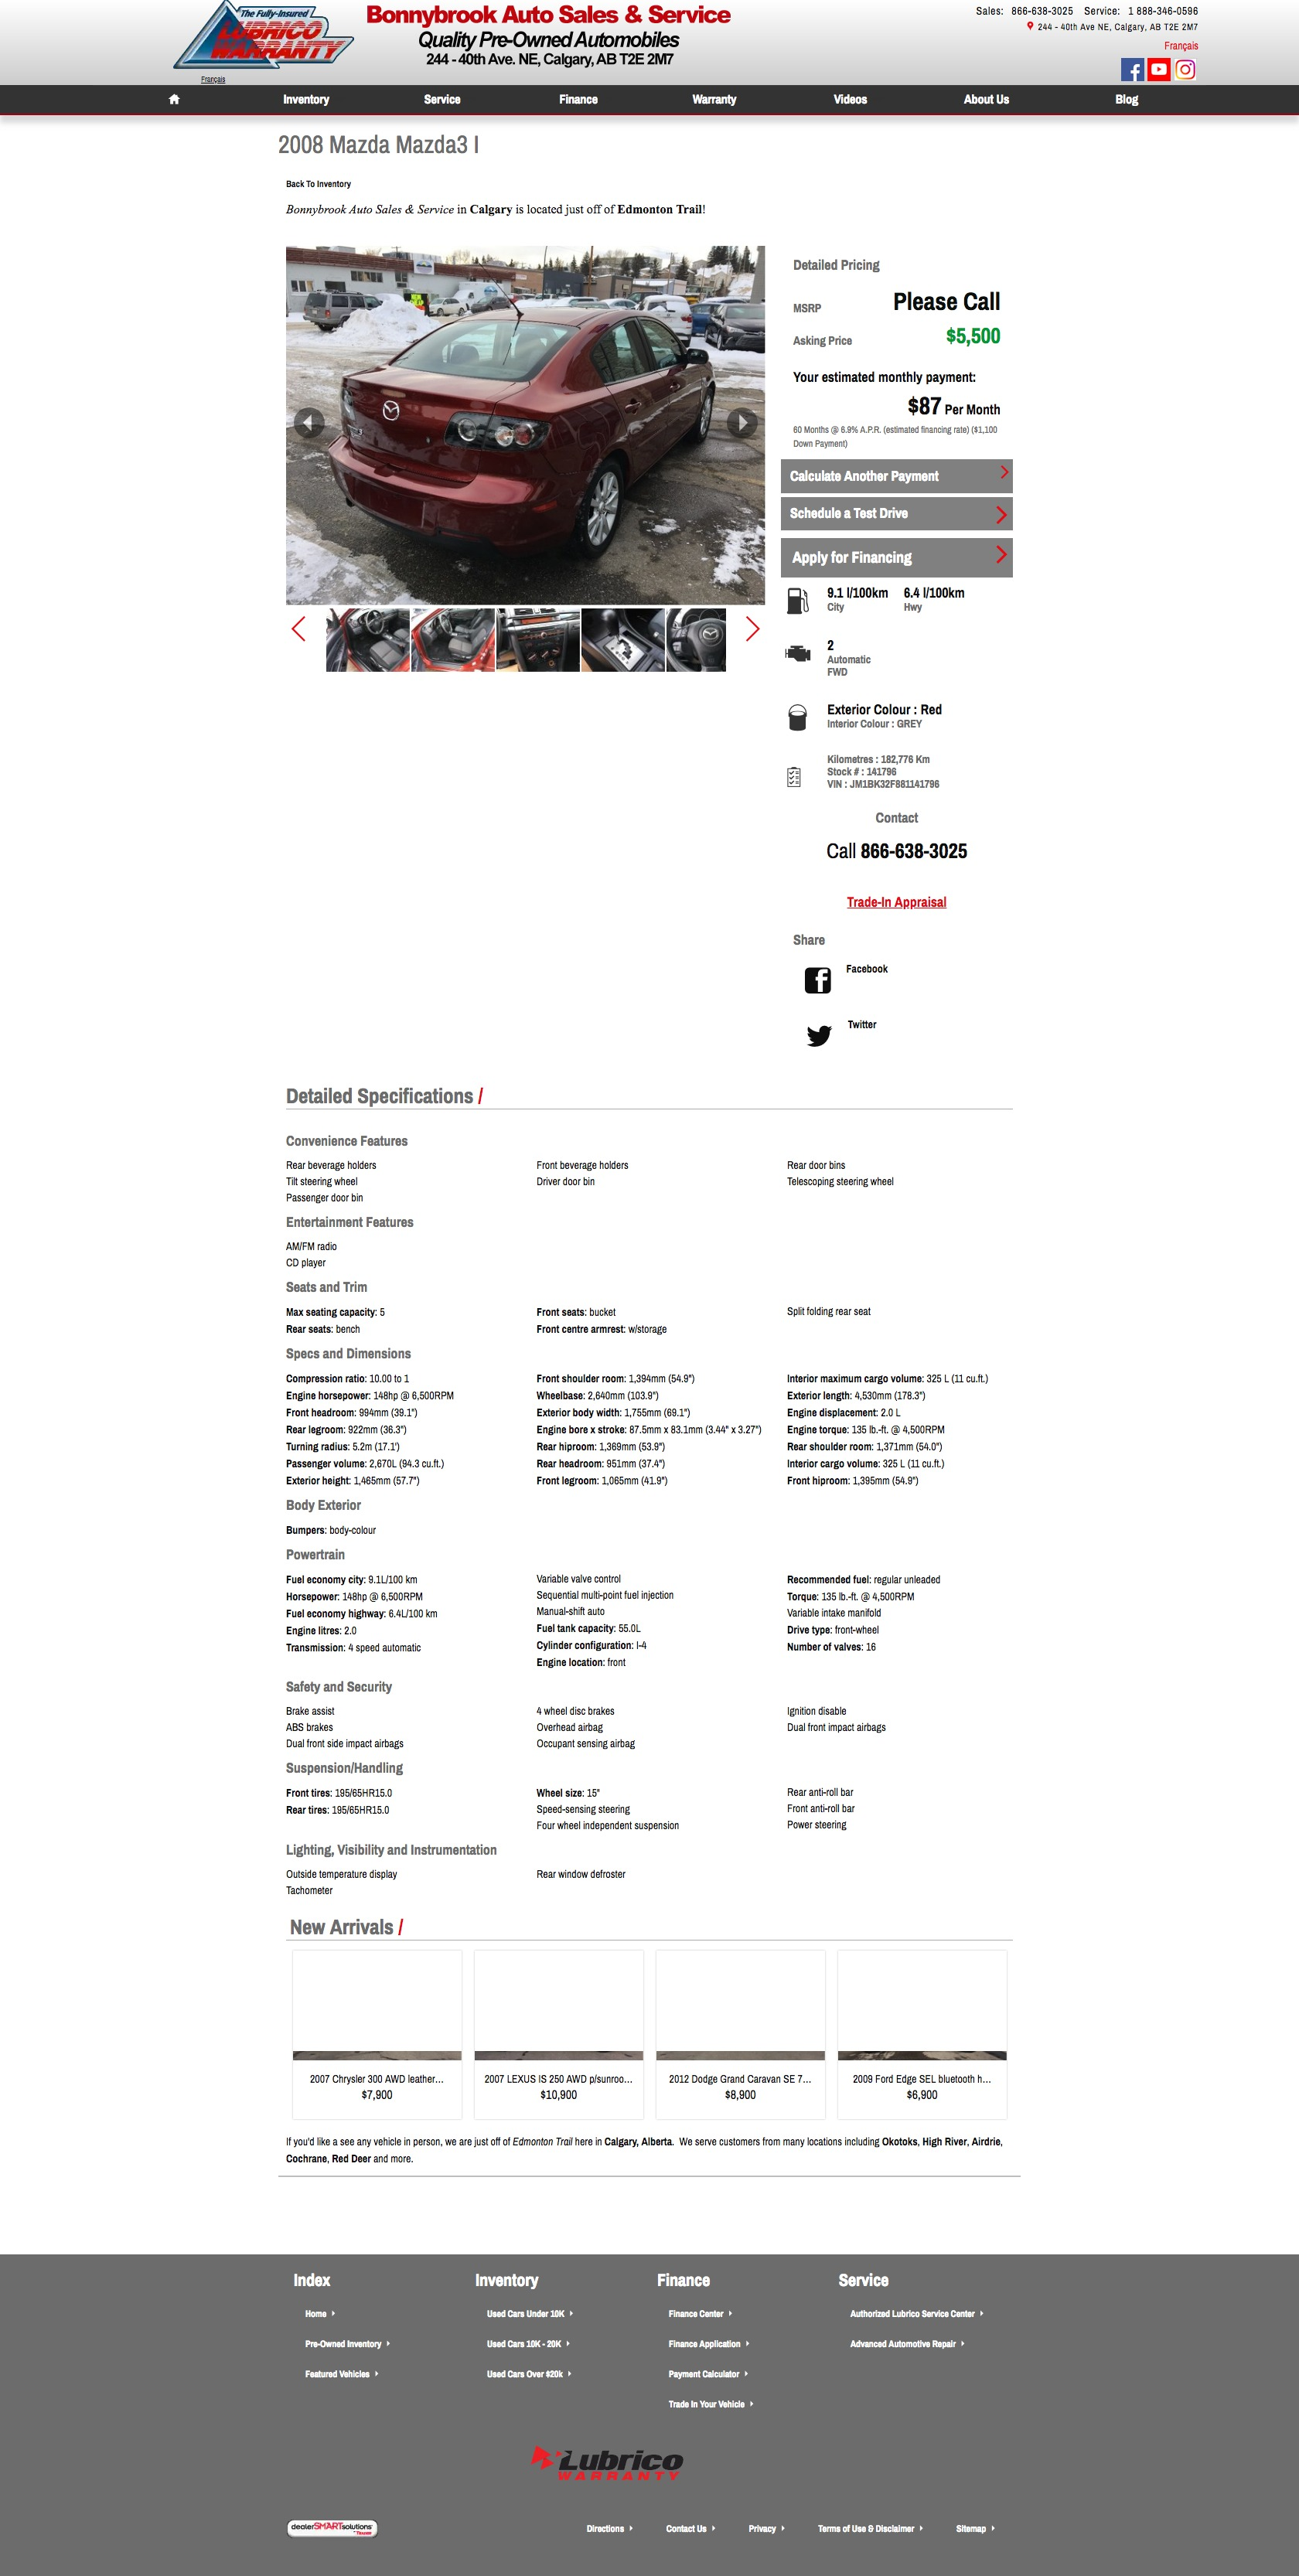car: (746, 616, 759, 641)
